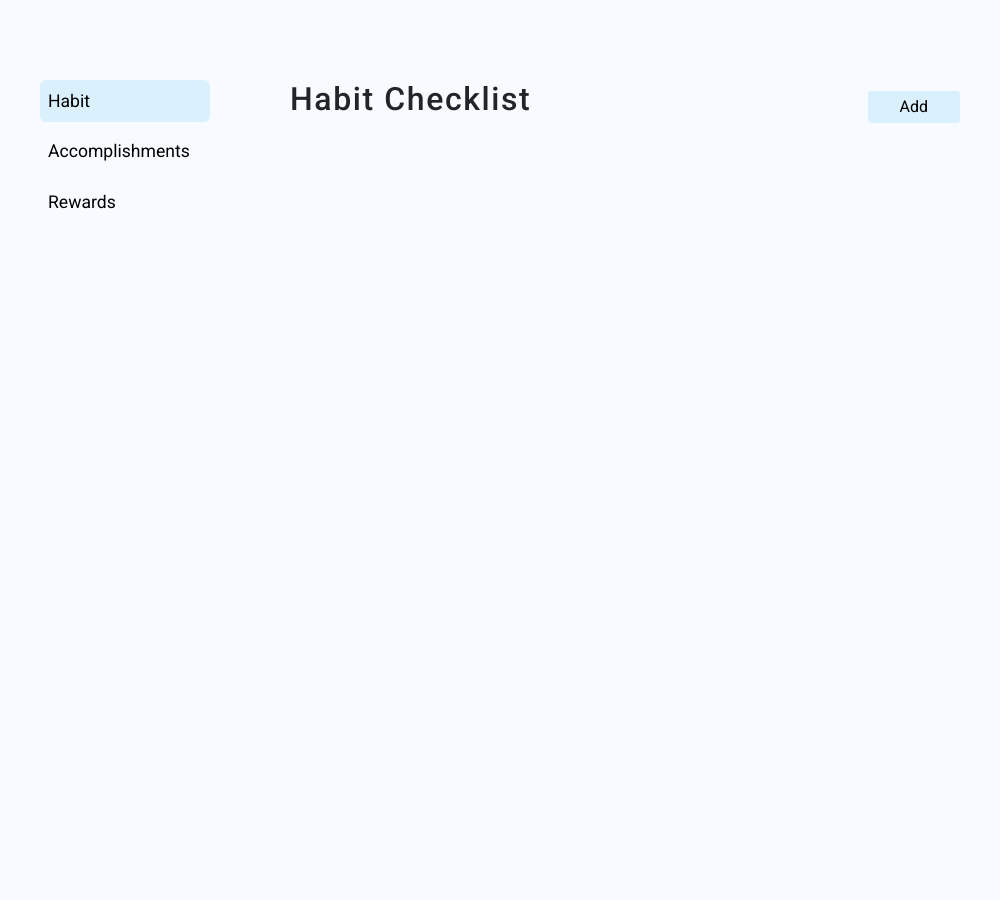
Test case: Habit dashboard tests › When you click the close button, modal disappears
This screenshot has width=1000, height=900.
What coordinates should you click on to do the following:
click the button "Add"
I would click on:
 (915, 107)
Its box is x1=868 y1=91 x2=961 y2=123.
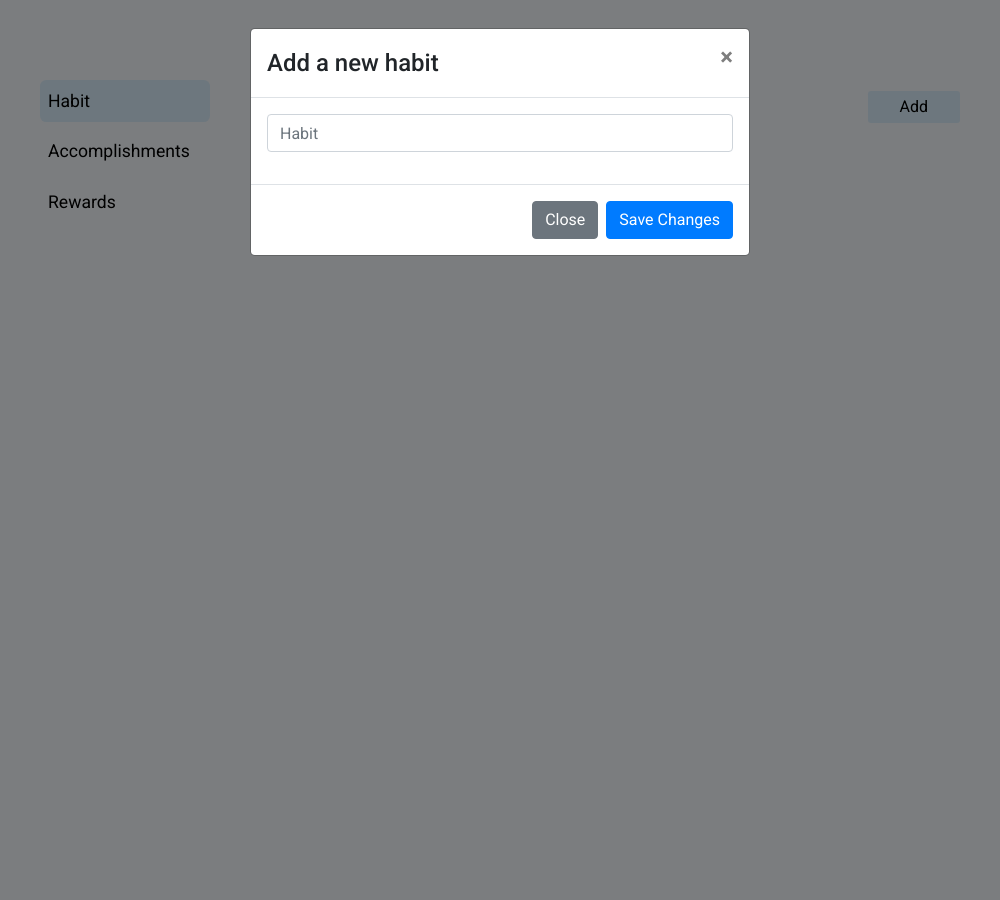
What coordinates should you click on to do the following:
click the button "Close"
I would click on:
 (565, 220)
Its box is x1=532 y1=201 x2=598 y2=239.
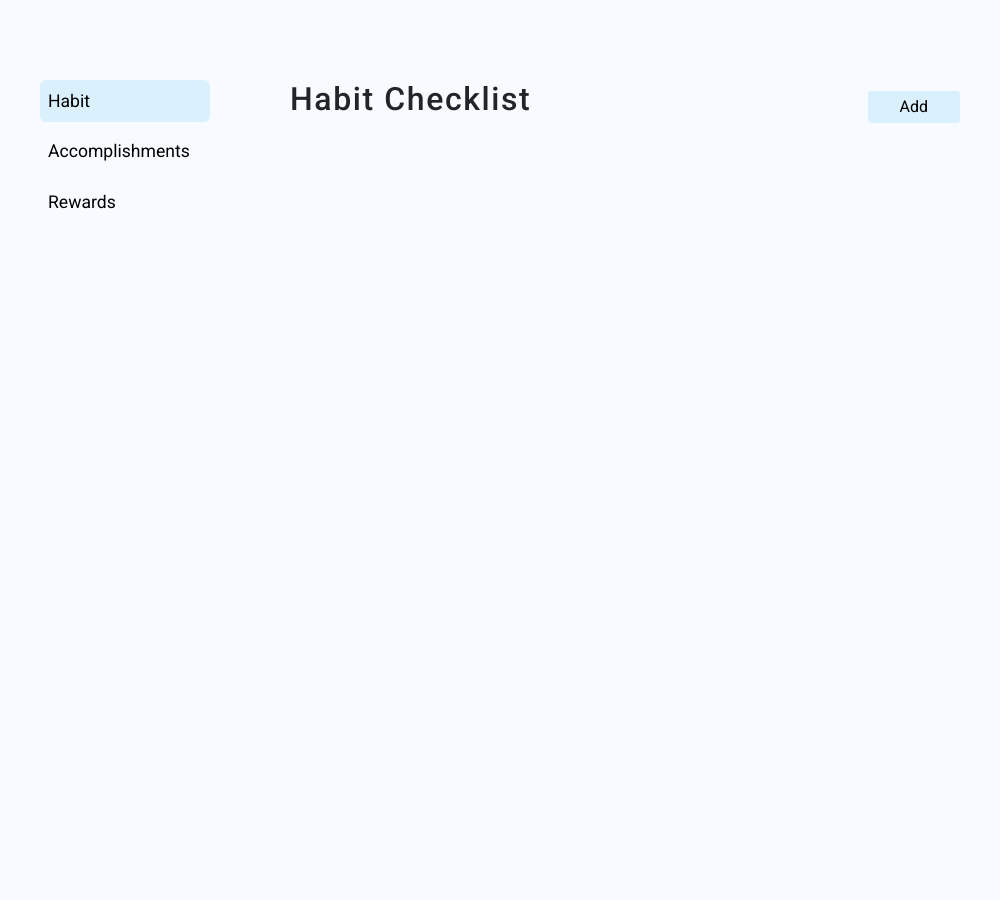
Expected: the element with class "modal-dialog" is gone
